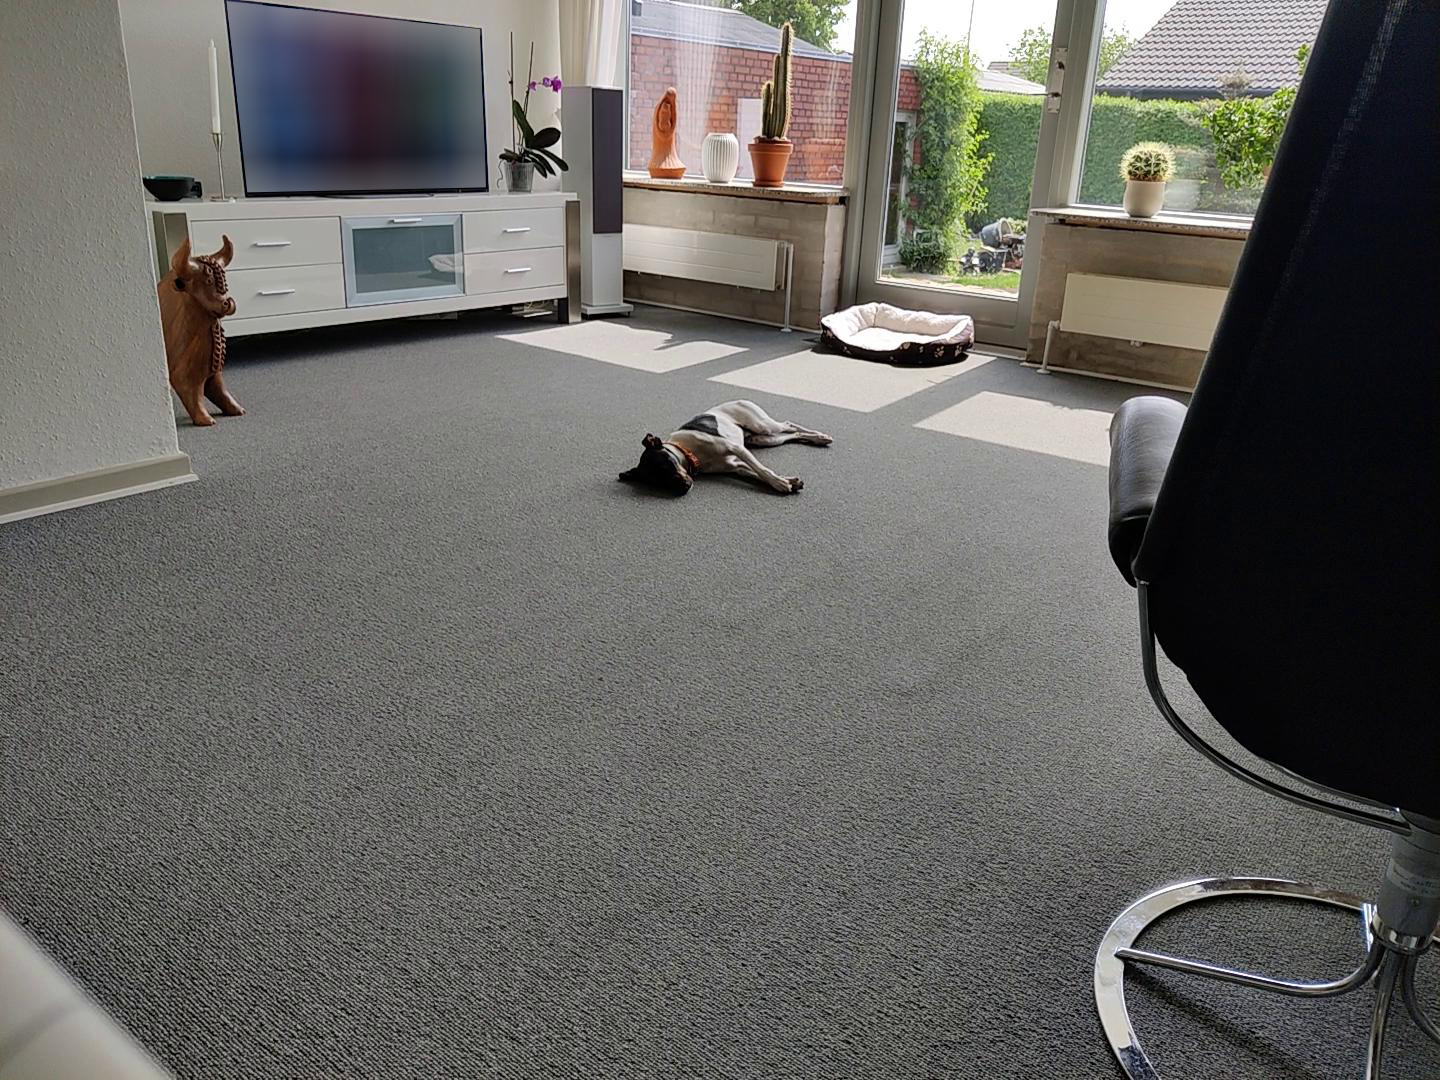Dog: (612, 397, 837, 500)
